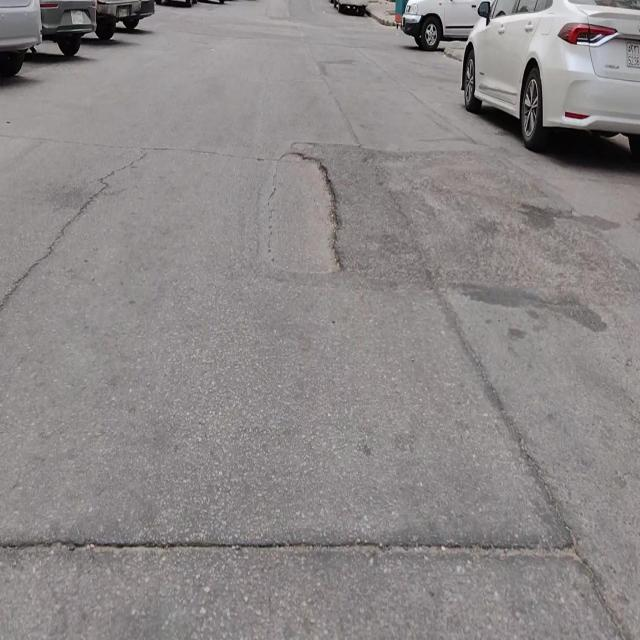Pothole: (268, 146, 344, 278)
